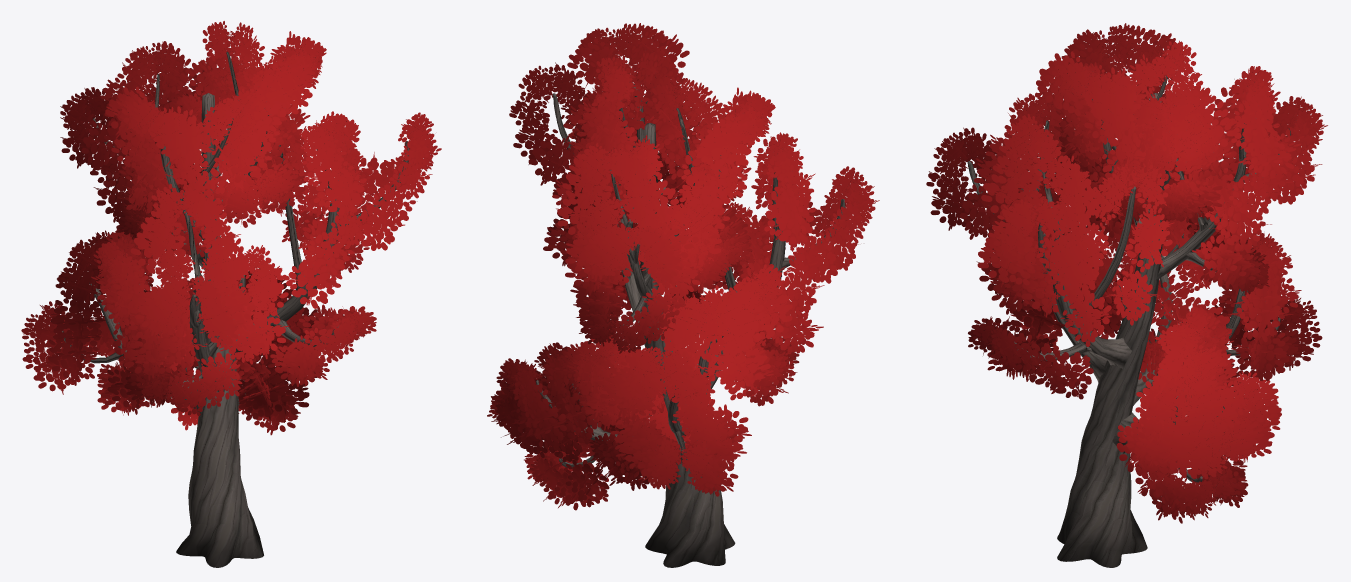
Rendered from TwistedTree_3.glb.
3 views of the same model, side by side, from view 1: azimuth 30°, elevation 25°; view 2: azimuth 150°, elevation 25°; view 3: azimuth 270°, elevation 25° (orthographic). The views are drawn at different scales.
Visible parts, largest first — view 1: TwistedTree_3; view 2: TwistedTree_3; view 3: TwistedTree_3.
Part boxes in pixels (x1,y1,x2,y2): TwistedTree_3: (21,21,441,567); TwistedTree_3: (487,23,879,567); TwistedTree_3: (926,23,1327,567).
Size of the model in its own units: 11.36 by 16.07 by 11.51.
2 materials, 2 textured.
